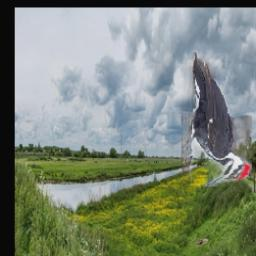Woodpecker: (181, 52, 252, 188)
